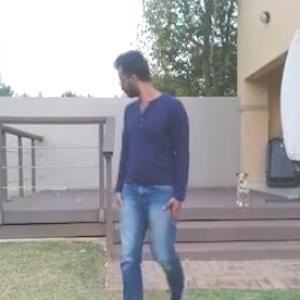follow: (87, 31, 195, 299)
